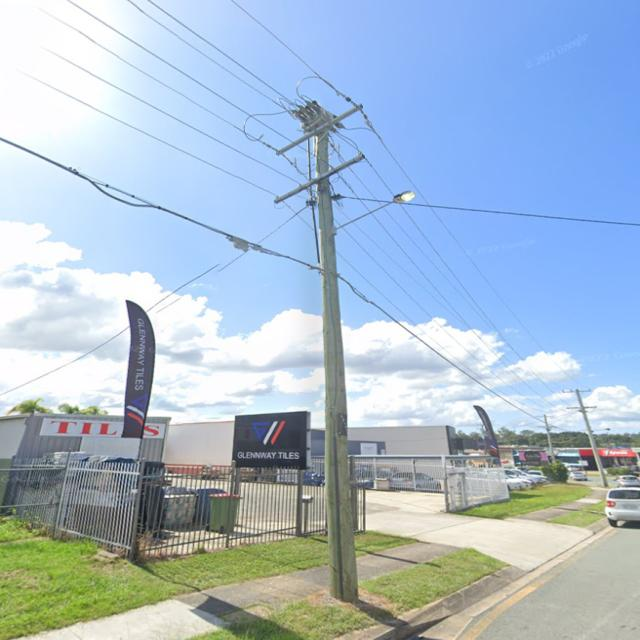HV-switch: (287, 98, 337, 135)
HV-transmission: (266, 96, 364, 159), (562, 388, 597, 409)
crossarm: (274, 102, 364, 156), (275, 155, 367, 204), (562, 389, 592, 393), (565, 406, 597, 409)
streetlight: (332, 189, 416, 233)
timber-pole: (314, 127, 362, 603), (574, 389, 608, 486)
